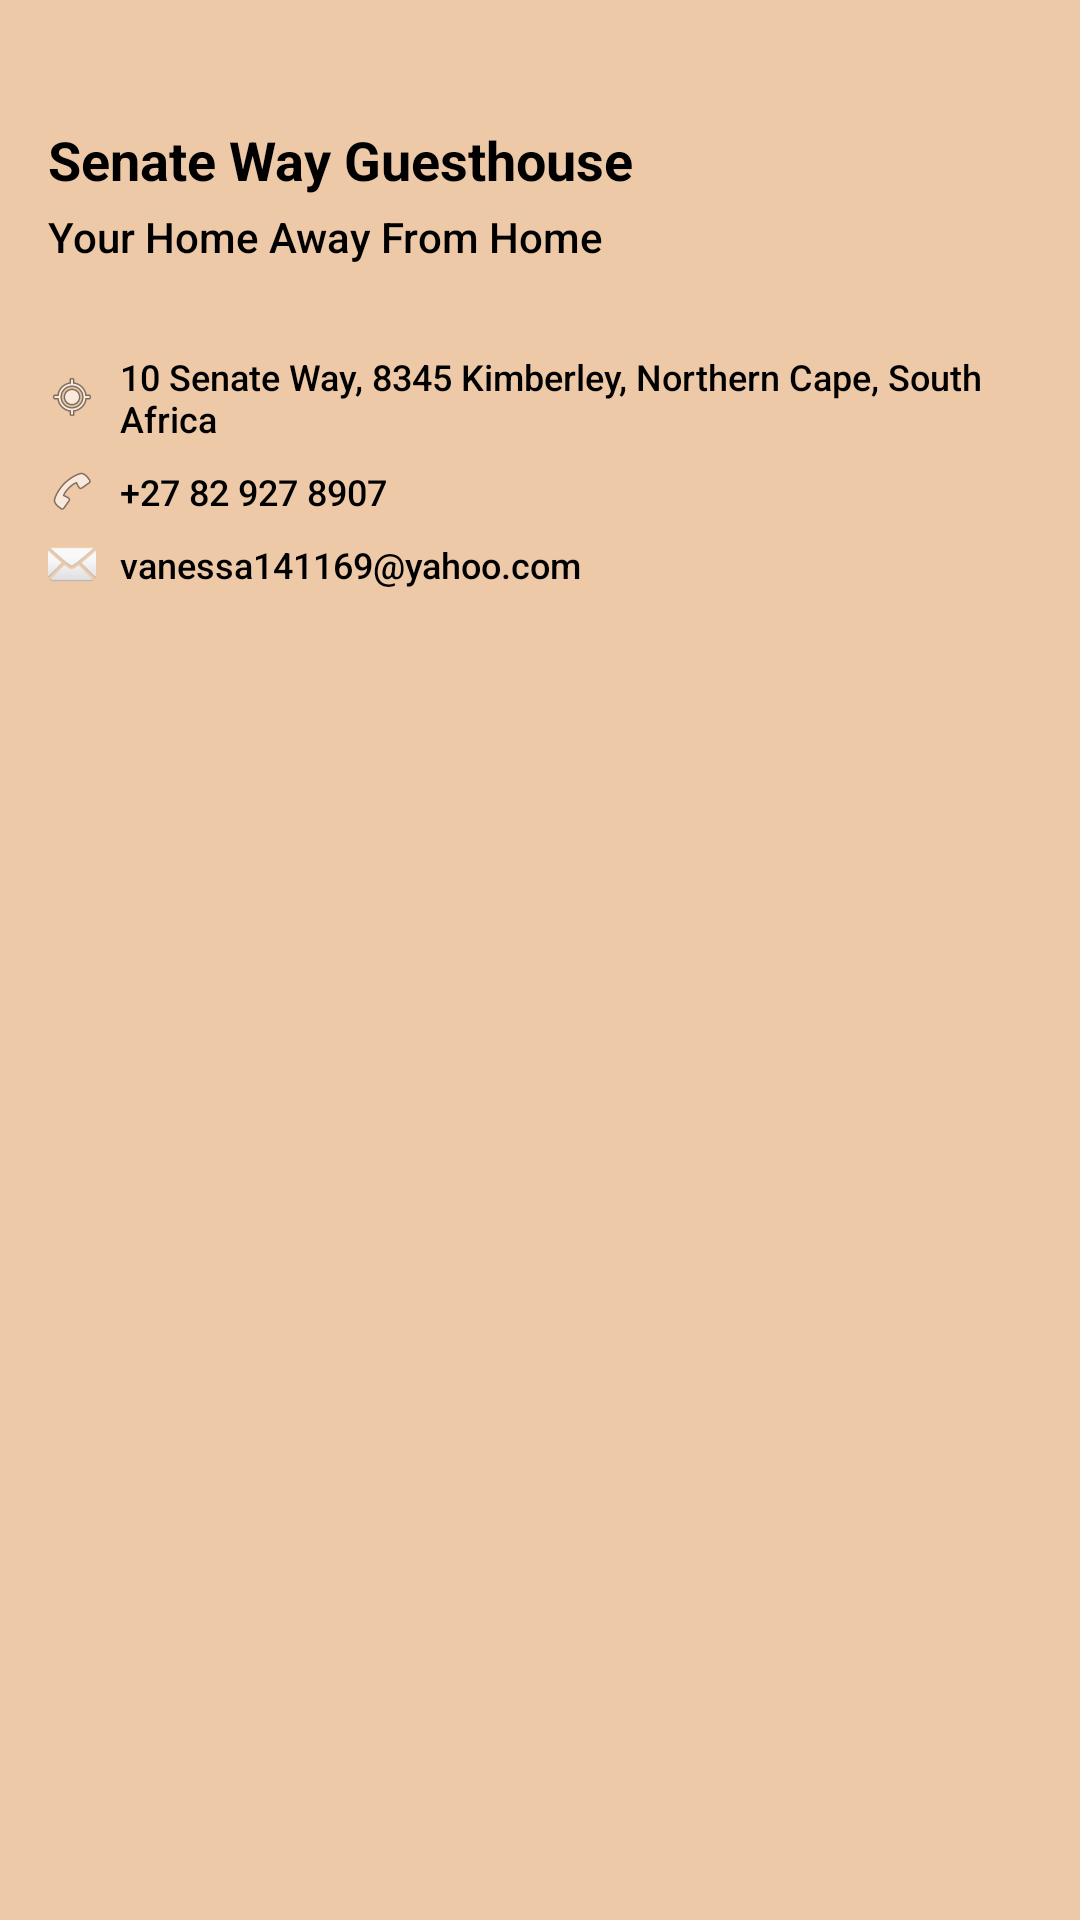

Where icons sit on this 1080x1920 app screen, as (x1, y1, x2, y2):
call: (53, 472, 91, 510)
email: (48, 548, 96, 581)
mylocation: (53, 378, 91, 416)
